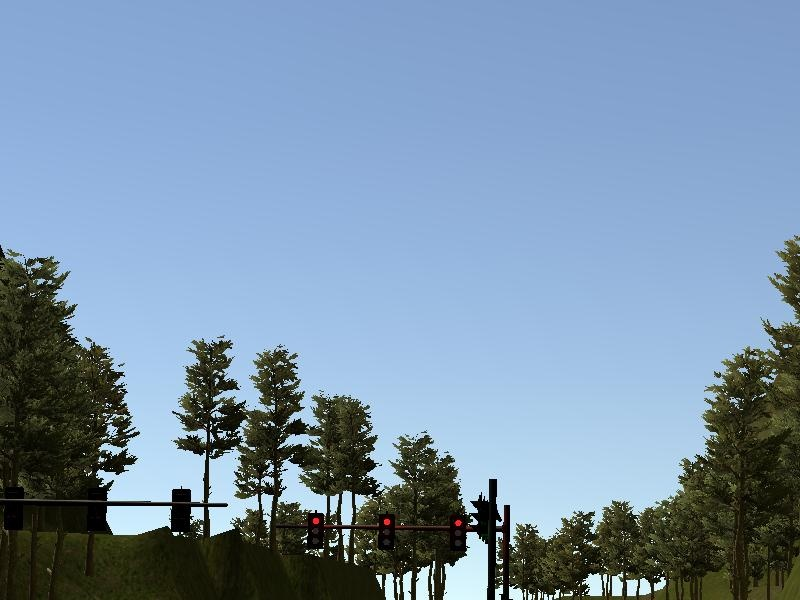Red: (378, 513, 395, 551), (307, 513, 324, 548), (450, 517, 467, 552)
